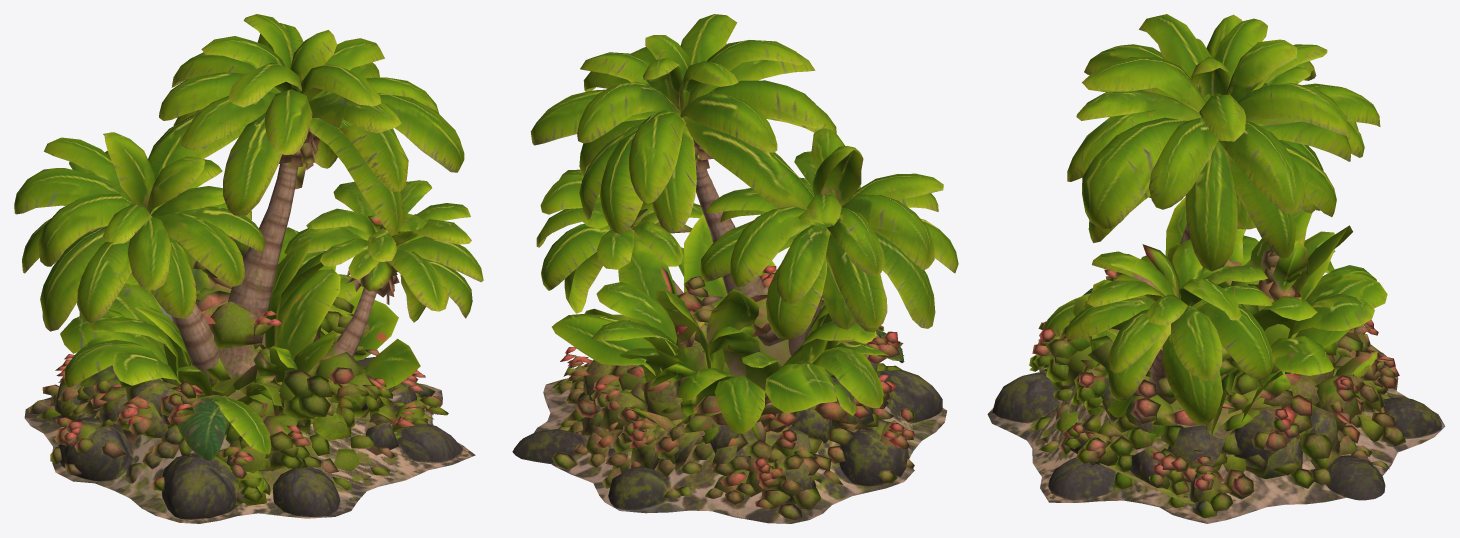
The model's file is tropical-grove.glb.
3 renders of one model, left to right at view 1: azimuth 30°, elevation 25°; view 2: azimuth 150°, elevation 25°; view 3: azimuth 270°, elevation 25°, orthographic. The views are drawn at different scales.
Visible parts, largest first — view 1: tropical-groveLOD0; view 2: tropical-groveLOD0; view 3: tropical-groveLOD0.
Part boxes in pixels (x1,y1,x2,y2): tropical-groveLOD0: [14, 14, 483, 523]; tropical-groveLOD0: [512, 14, 958, 523]; tropical-groveLOD0: [987, 14, 1445, 523].
Size of what is drawn, in the model's own units: 10.73 by 10 by 10.19.
Materials: 1 (1 with a texture image).
